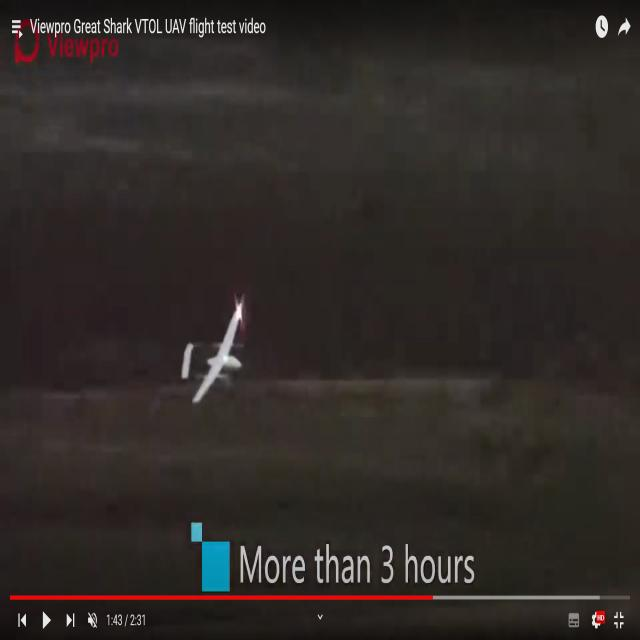iha: (180, 334, 243, 371)
